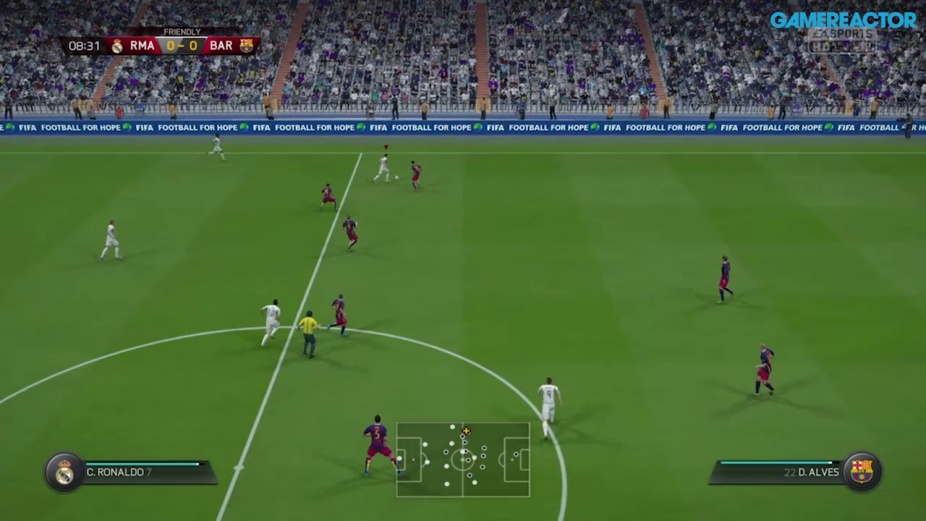ball: (392, 173, 402, 182)
player: (363, 413, 398, 476), (535, 374, 563, 441), (753, 344, 775, 400), (259, 296, 282, 346), (717, 253, 736, 308), (100, 218, 122, 263), (329, 292, 349, 335), (342, 214, 361, 254), (320, 181, 338, 214), (209, 132, 225, 161), (410, 159, 422, 195), (376, 153, 389, 186)
